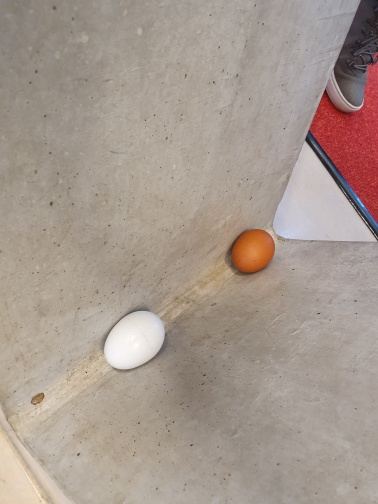egg: (100, 309, 166, 368), (224, 226, 276, 272)
